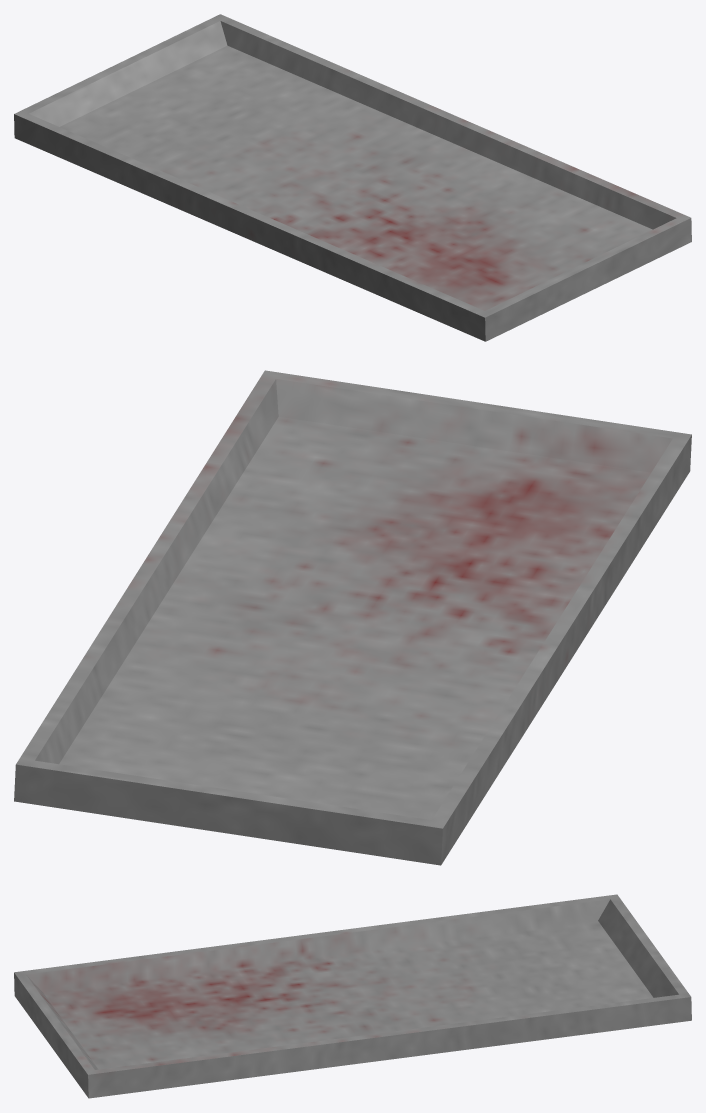
The model's file is morgueBed.glb.
3 views of the same model, one above another, from view 1: azimuth 30°, elevation 25°; view 2: azimuth 150°, elevation 25°; view 3: azimuth 270°, elevation 25° (orthographic). The views are drawn at different scales.
Visible parts, largest first — view 1: morgueBed; view 2: morgueBed; view 3: morgueBed.
Boxes of the visible parts, box(x1,y1,x2,y2) form: morgueBed: box(14, 14, 691, 341); morgueBed: box(14, 370, 691, 865); morgueBed: box(14, 894, 691, 1098).
Bounding box in the file's own units: 8.86 × 0.9293 × 13.77.
1 material, 1 textured.
